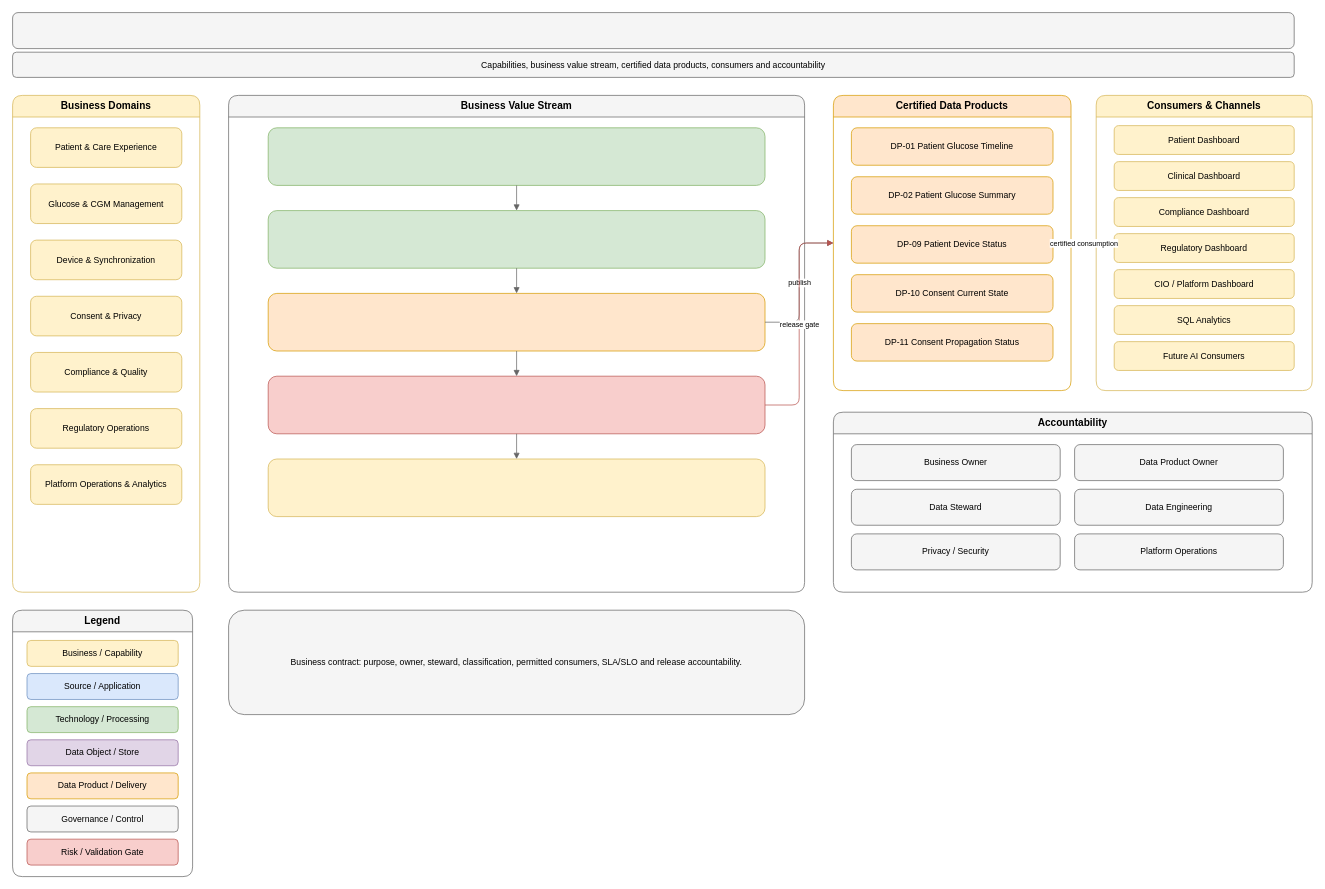
Some shapes in this 1325 by 889 pixel diagram are drawn without their labels. The centre of each missing label's shape, as x and y in pixels:
"Certify & Release" belongs at point 516,404.
"Consume & Improve" belongs at point 516,487.
"Create Trusted Data Products" belongs at point 516,322.
"Generate / Receive Synthetic Evidence" belongs at point 516,156.
"Govern & Integrate" belongs at point 516,239.
"Level 1: DCP Business Architecture" belongs at point 653,30.
